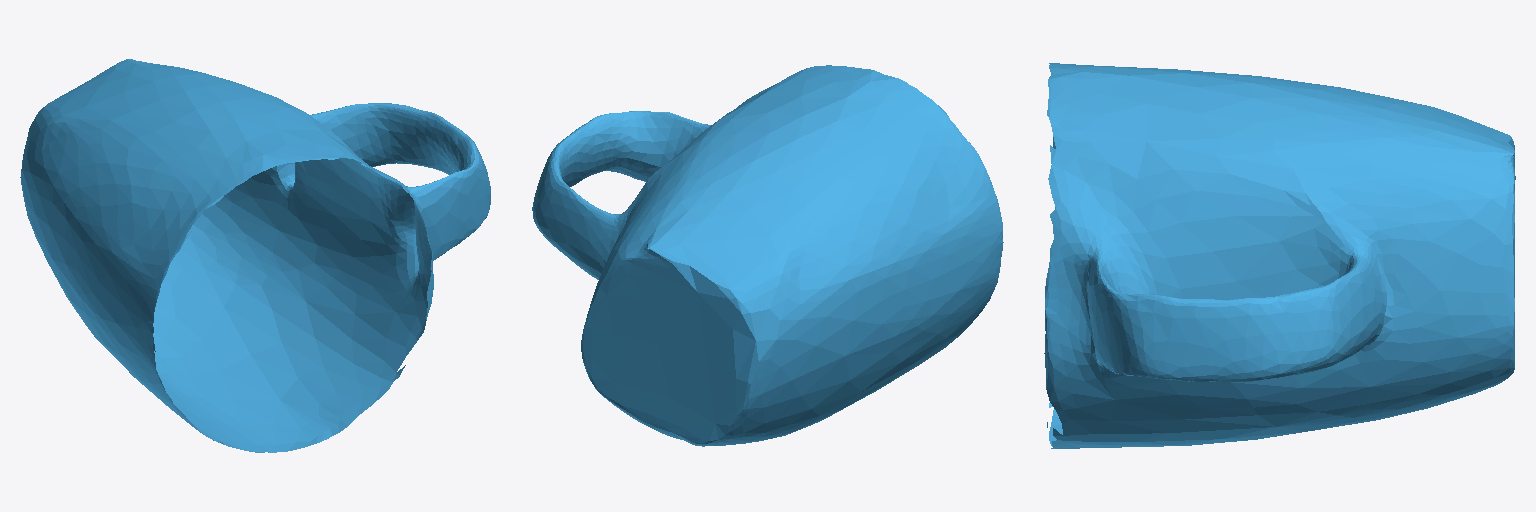
The robot description file, URDF, robot "mug_model":
<robot name="mug_model">
  <link name="world"/>
  <joint name="my_mug_joint" type="floating" >
    <!-- axis is in the parent link frame coordintates -->
    <axis xyz="0 0 1" />
    <parent link="world" />
    <child link="my_mug" />
    <!-- initial pose of my_mug joint/link in the parent frame coordiantes -->
    <origin xyz="0 0 0" rpy="0 0 0" />
  </joint>
  <link name="my_mug">
    <inertial>
      <mass value="1.0" />
      <!-- center of mass (com) is defined w.r.t. link local coordinate system -->
      <origin xyz="0 0 0" /> 
      <inertia  ixx="1.0" ixy="0.0"  ixz="0.0"  iyy="1.0"  iyz="0.0"  izz="1.0" />
    </inertial>
    <visual>
      <!-- visual origin is defined w.r.t. link local coordinate system -->
      <origin xyz="0 0 0" rpy="0 0 0" />
      <geometry>
        <mesh filename="package://gazebo_worlds/Media/models/mug-test.stl" />
      </geometry>
    </visual>
    <collision>
      <!-- collision origin is defined w.r.t. link local coordinate system -->
      <origin xyz="0 0 0" rpy="0 0 0" />
      <geometry>
        <mesh filename="package://gazebo_worlds/Media/models/mug-test.stl" />
      </geometry>
    </collision>
  </link>
  <gazebo reference="my_mug">
    <material>GazeboWorlds/StereoProjectionPattern</material>
    <turnGravityOff>true</turnGravityOff>
  </gazebo>
</robot>

--- Render facts (derived) ---
Views: 3 orthographic renders of the robot side by side, from view 1: azimuth 30°, elevation 25°; view 2: azimuth 150°, elevation 25°; view 3: azimuth 270°, elevation 25°.
Model mug_model with 2 links and 1 joints (1 floating), rooted at world, posed all joints at 0.
Links seen in each view (by area): view 1: my_mug; view 2: my_mug; view 3: my_mug.
Link boxes in pixels (x1=…): my_mug: x1=20, y1=59, x2=490, y2=452; my_mug: x1=532, y1=65, x2=1003, y2=446; my_mug: x1=1044, y1=63, x2=1515, y2=448.
Size in the robot's own frame: 1.14 by 1.01 by 0.828 metres.
1 mesh visuals loaded from 1 distinct referenced files (1 binary STL).